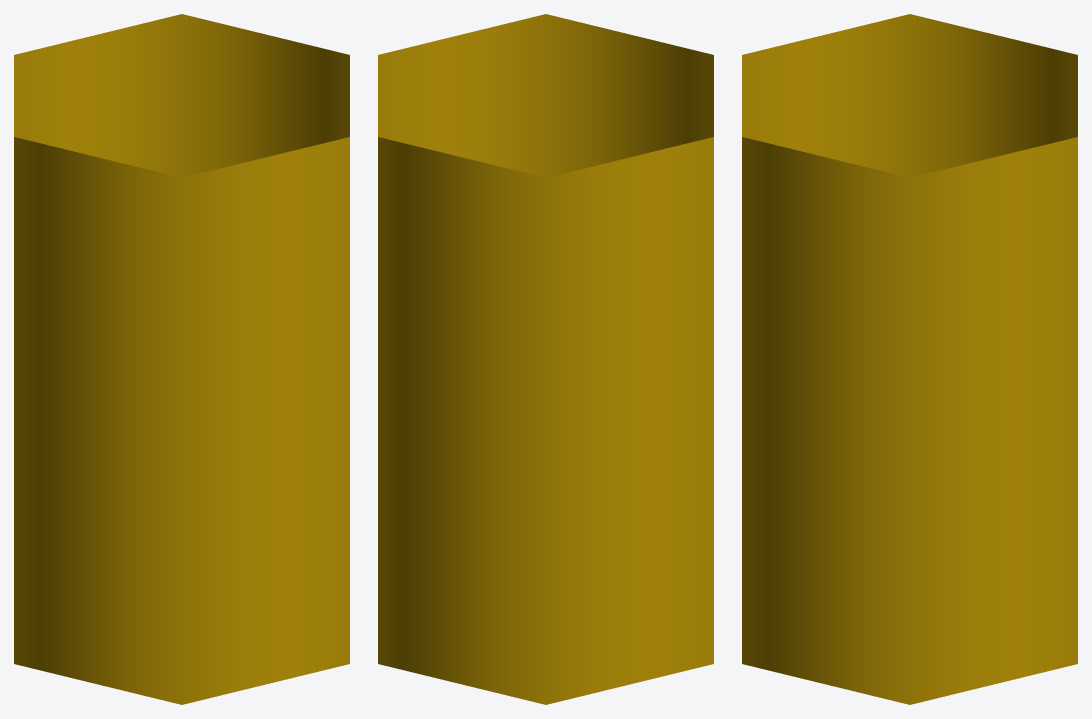
File: BulletCasing (1).obj
3 views of the same model, side by side, from view 1: azimuth 30°, elevation 25°; view 2: azimuth 150°, elevation 25°; view 3: azimuth 270°, elevation 25° (orthographic).
Visible parts, largest first — view 1: BulletCasing (1); view 2: BulletCasing (1); view 3: BulletCasing (1).
Boxes of the visible parts, x1=… form: BulletCasing (1): x1=14, y1=14, x2=349, y2=704; BulletCasing (1): x1=378, y1=14, x2=713, y2=704; BulletCasing (1): x1=742, y1=14, x2=1077, y2=704.
Size of the model in its own units: 0.2 by 0.3 by 0.1732.
